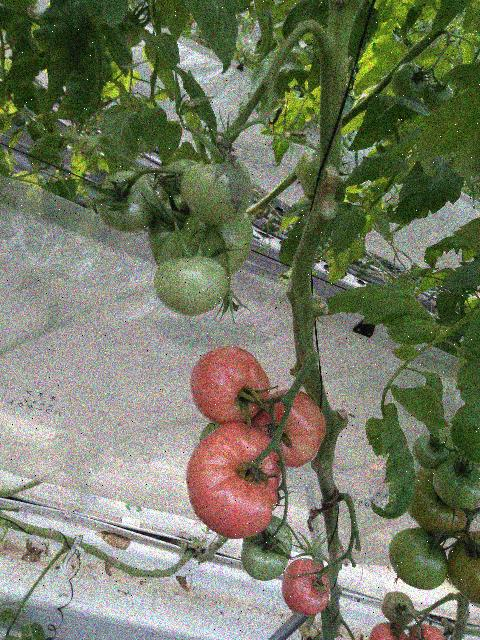b_fully_ripened: (186, 422, 281, 540), (190, 346, 270, 425), (251, 388, 327, 467), (281, 557, 329, 616)
b_green: (147, 195, 253, 276), (153, 254, 229, 317), (180, 161, 252, 226), (408, 467, 467, 537), (96, 171, 161, 234), (388, 527, 448, 590), (240, 515, 292, 581), (432, 457, 480, 509), (448, 530, 480, 605), (412, 435, 448, 469)
